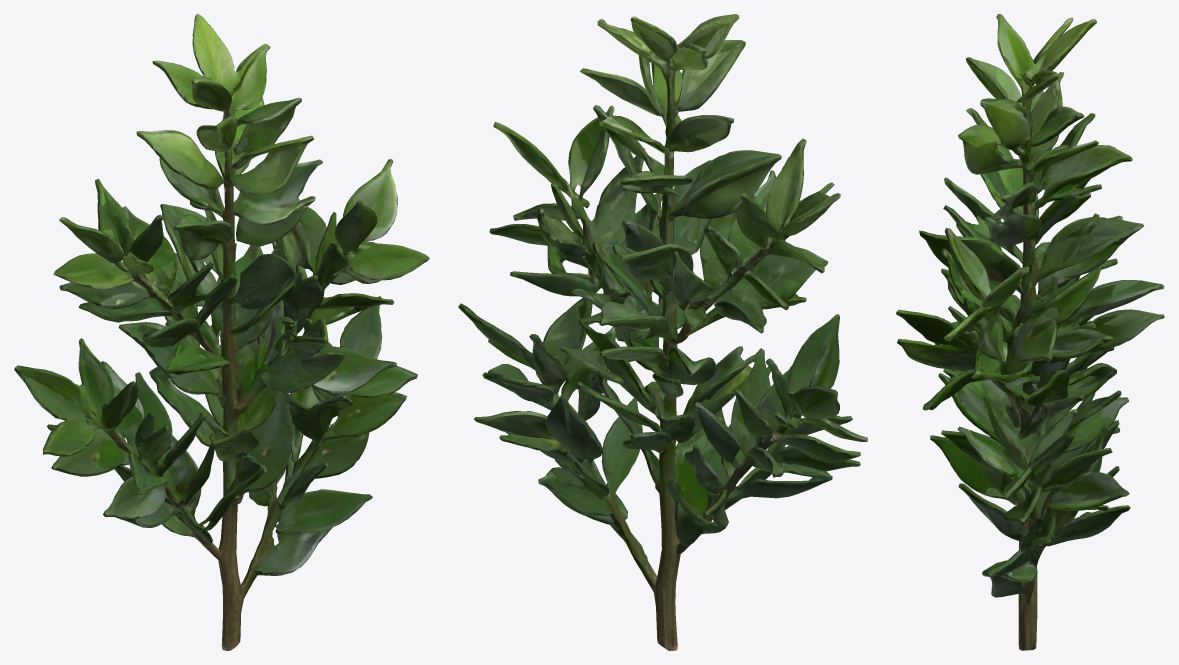
The model's file is lux-ruscus.glb.
3 views of the same model, side by side, from view 1: azimuth 30°, elevation 25°; view 2: azimuth 150°, elevation 25°; view 3: azimuth 270°, elevation 25° (orthographic). The views are drawn at different scales.
Visible parts, largest first — view 1: geometry_0; view 2: geometry_0; view 3: geometry_0.
Boxes of the visible parts, <box> form: geometry_0: <box>14,14,429,650</box>; geometry_0: <box>458,14,867,650</box>; geometry_0: <box>896,14,1164,650</box>.
Size of the model in its own units: 0.3742 by 0.6 by 0.231.
Materials: 1 (1 with a texture image).
